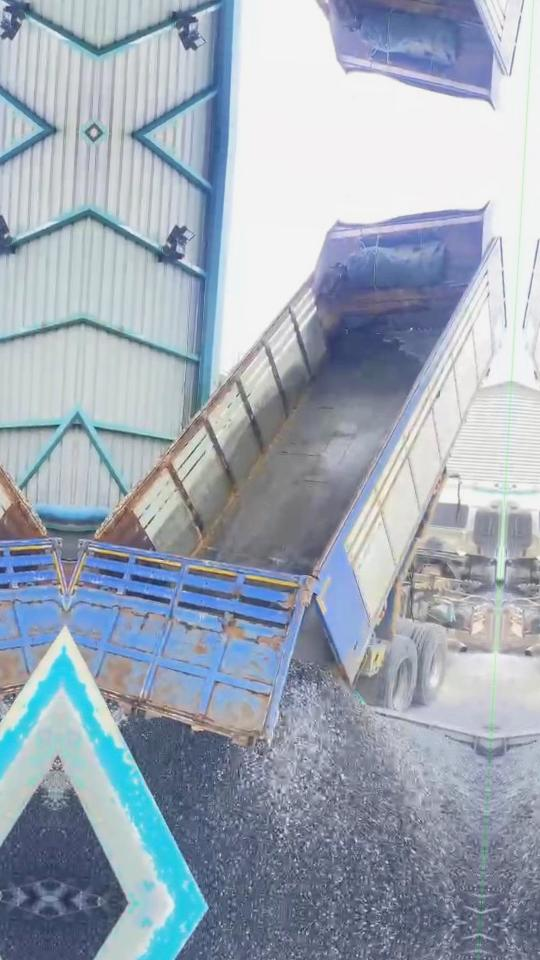gravel: (124, 665, 487, 922), (51, 793, 122, 899)
